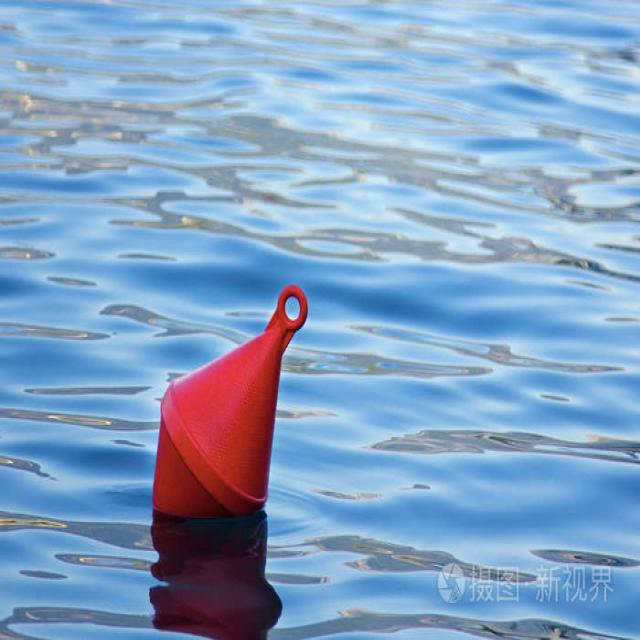buoy: (152, 281, 310, 528)
